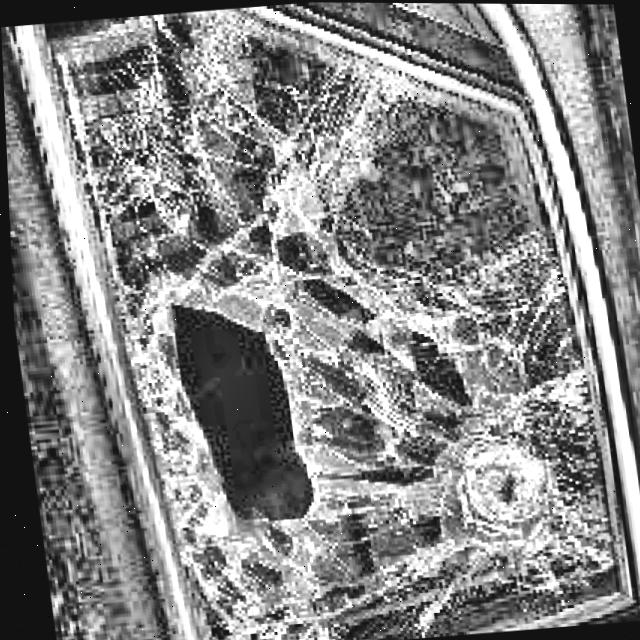glass_shatter: (160, 299, 329, 548), (405, 370, 581, 601)
